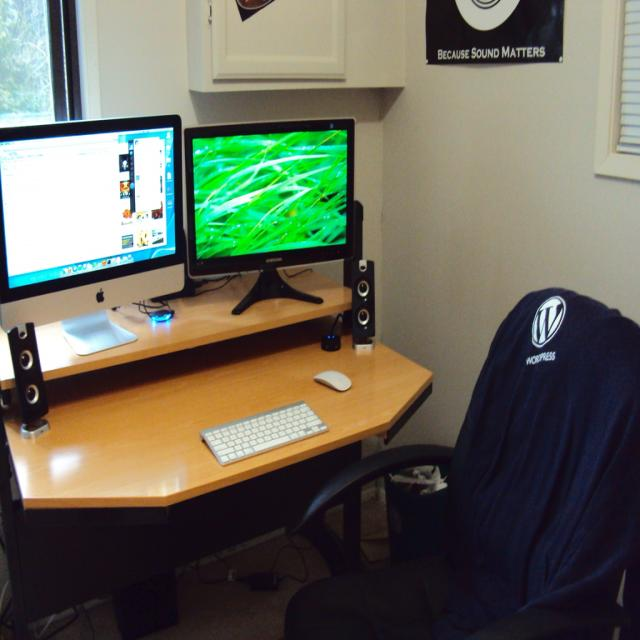chair: (286, 287, 640, 638)
desk: (2, 275, 431, 633)
keyboard: (199, 399, 329, 467)
mouse: (313, 369, 351, 392)
tv: (0, 113, 187, 330), (184, 119, 358, 285)
